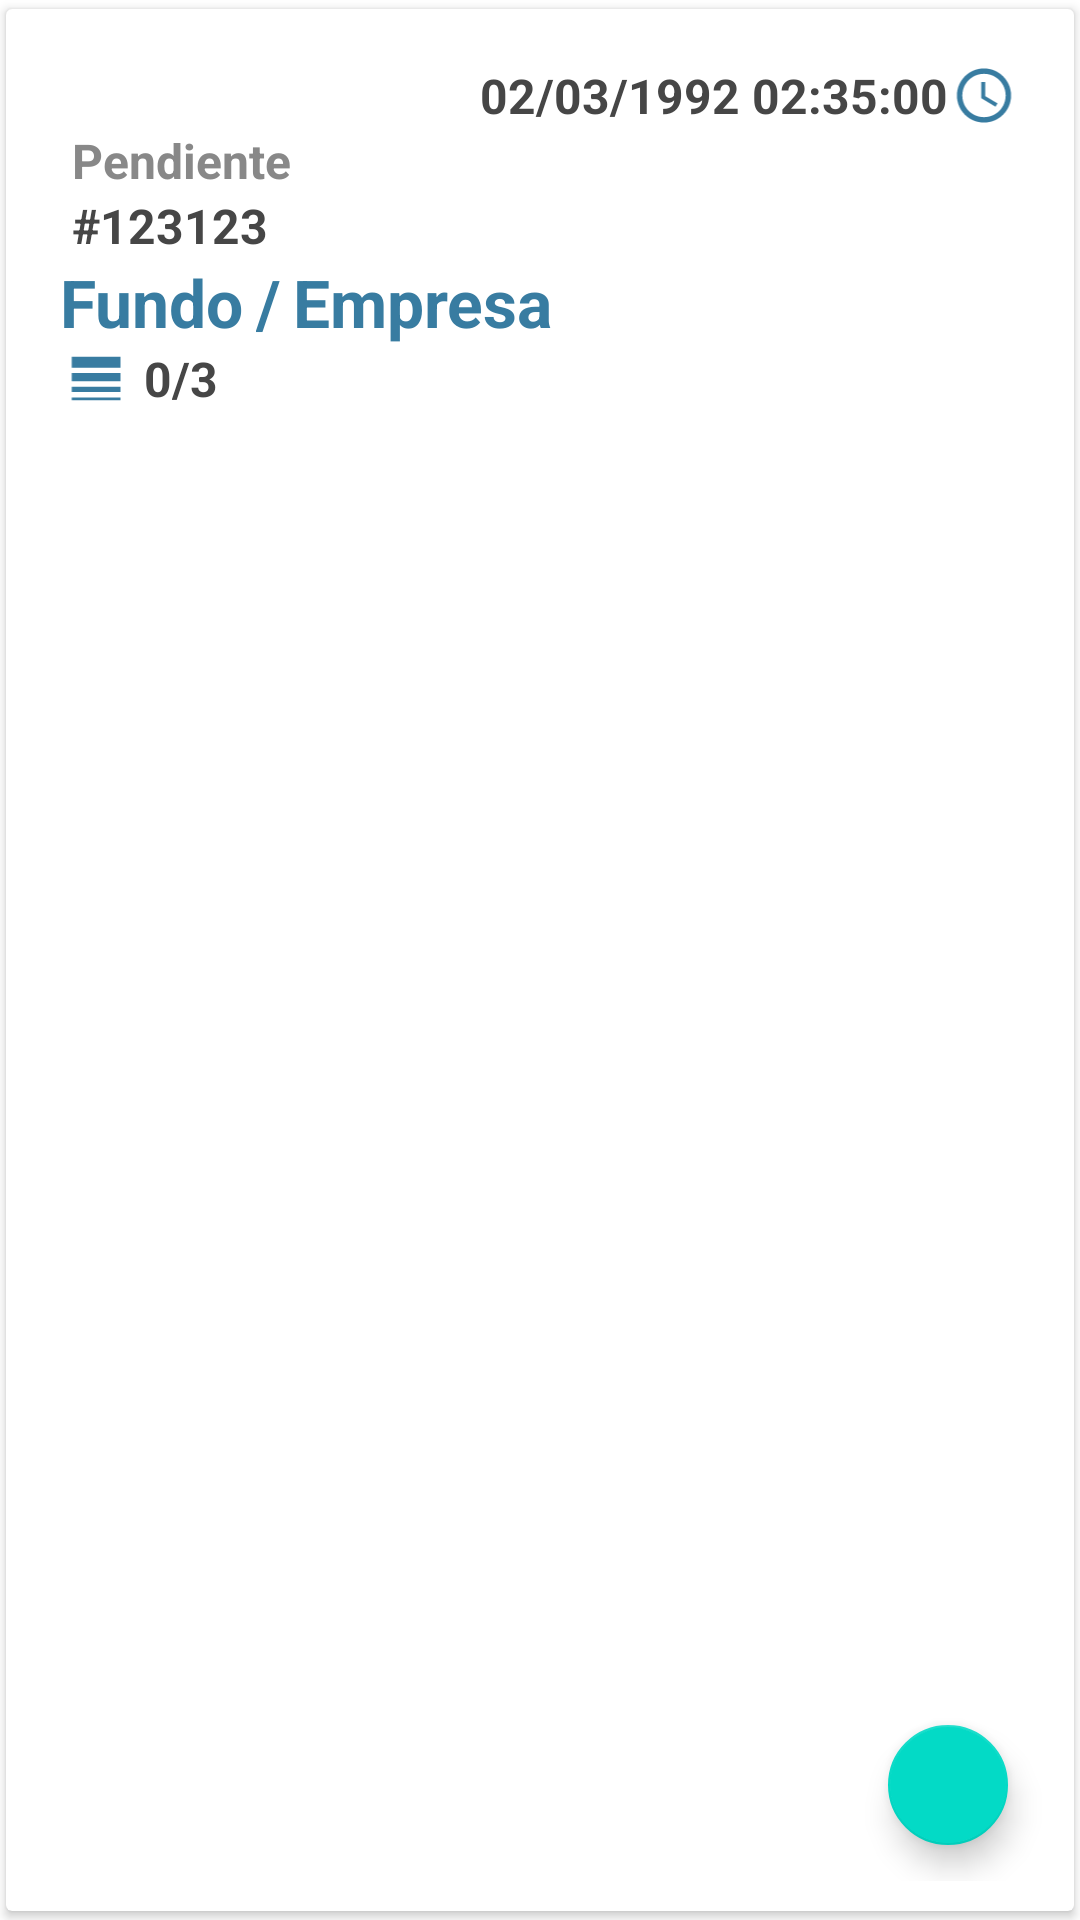

Icon click points for this 1080 × 1920 phone screenshot, format (x=x, y=y):
access time: (x=984, y=95)
line weight: (x=96, y=378)
